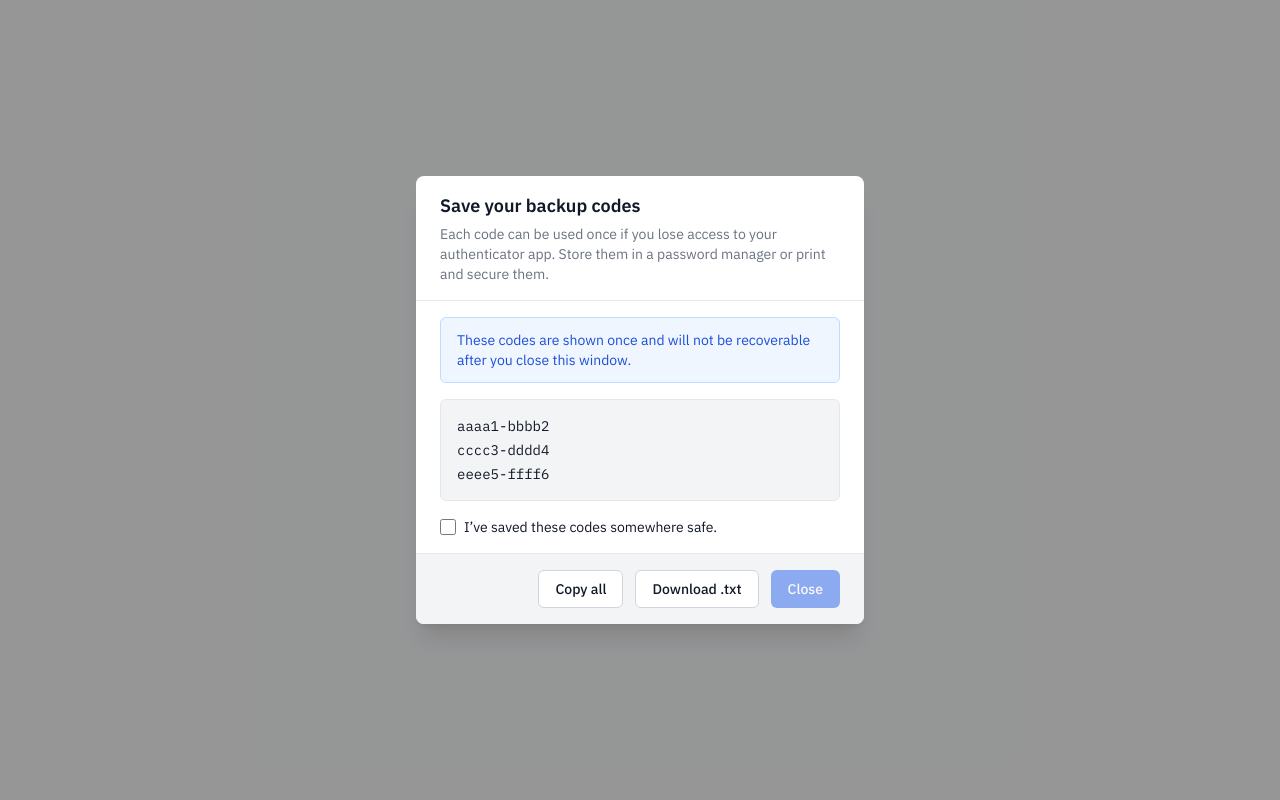
MfaBackupCodesModal › Copy all writes newline-joined codes to clipboard and shows transient confirmation
Step 1. Click the button with test id "backup-codes-copy" → [581, 589], box 538,570 -> 623,608
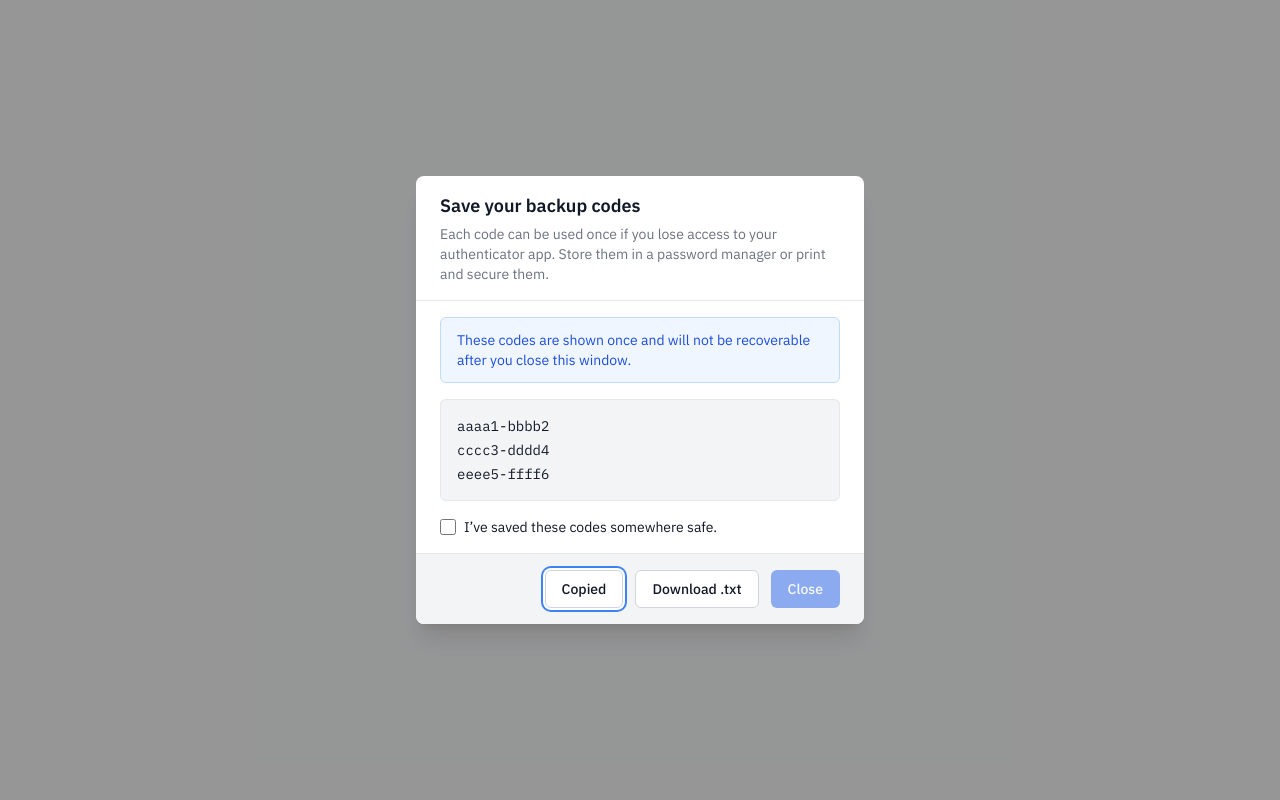
Expected: the button with test id "backup-codes-copy" reads "Copied", 545,570 -> 623,608
